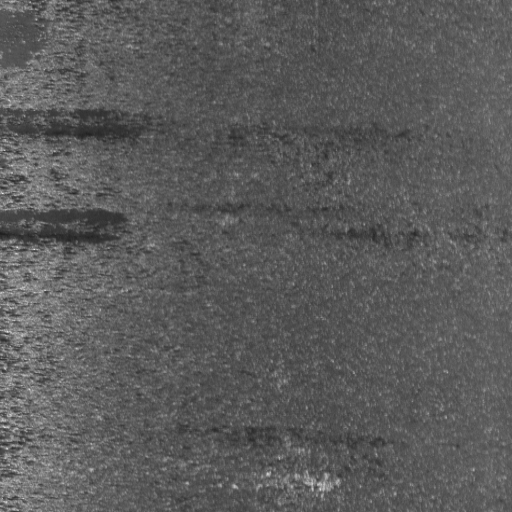hengxianghuashang: (1, 104, 405, 150), (301, 211, 511, 250), (1, 198, 133, 248)
